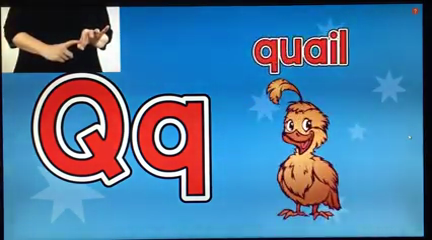Q: (39, 20, 114, 66)
